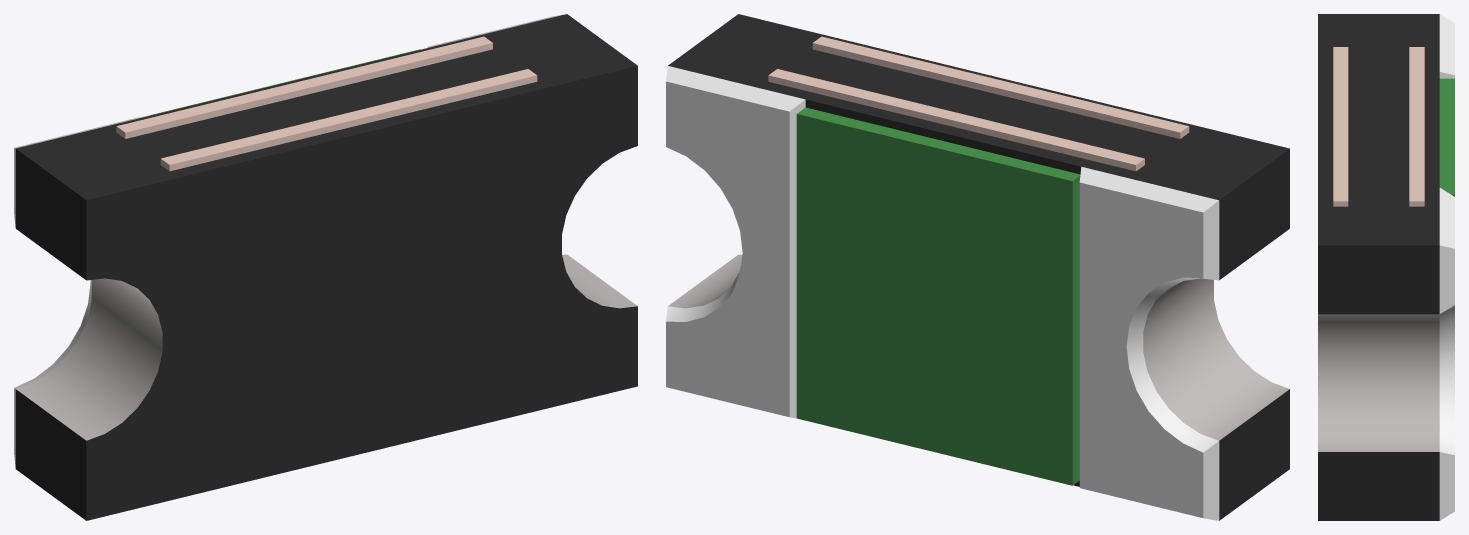
3 renders of one model, left to right at view 1: azimuth 30°, elevation 25°; view 2: azimuth 150°, elevation 25°; view 3: azimuth 270°, elevation 25°, orthographic. The views are drawn at different scales.
Parts seen in each view (by area): view 1: fuse_silicon_0603L v1; view 2: fuse_silicon_0603L v1; view 3: fuse_silicon_0603L v1.
Boxes of the visible parts, left/top/right/bottom form: fuse_silicon_0603L v1: left=14, top=14, right=637, bottom=520; fuse_silicon_0603L v1: left=666, top=14, right=1289, bottom=520; fuse_silicon_0603L v1: left=1318, top=14, right=1454, bottom=520.
Bounding box in the file's own units: 0.0018 × 0.00104 × 0.00045.
